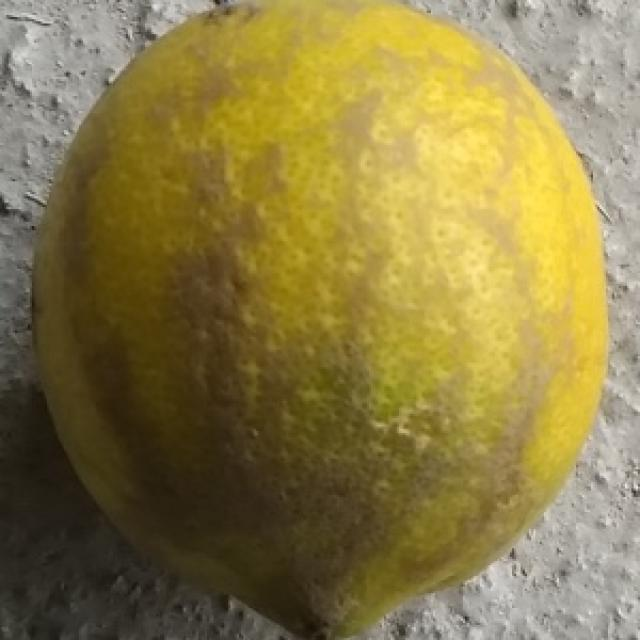overripe: (15, 0, 614, 638)
